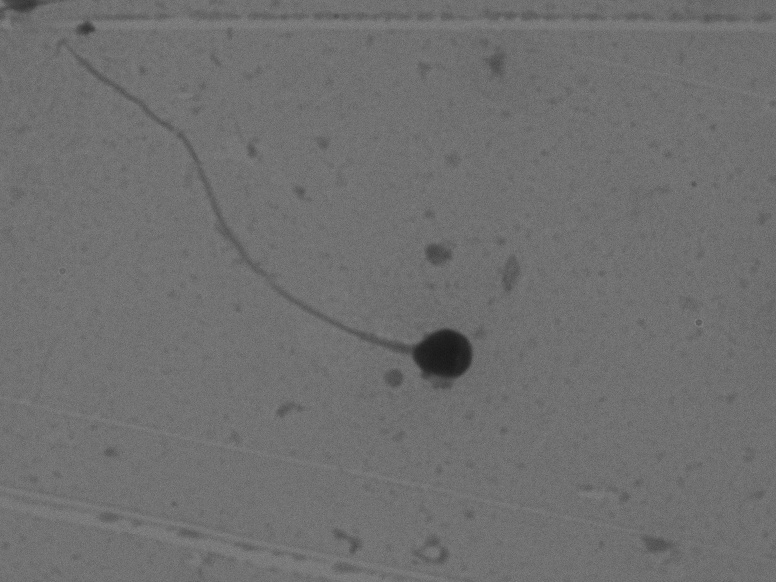Abnormal: (57, 45, 498, 429)
